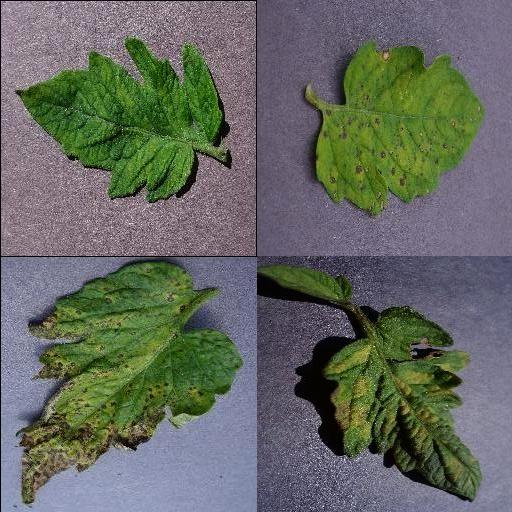Leaf Mold: (321, 306, 479, 504)
Mosaic Virus: (12, 36, 222, 204)
Septoria: (14, 262, 242, 504), (314, 42, 484, 218)
